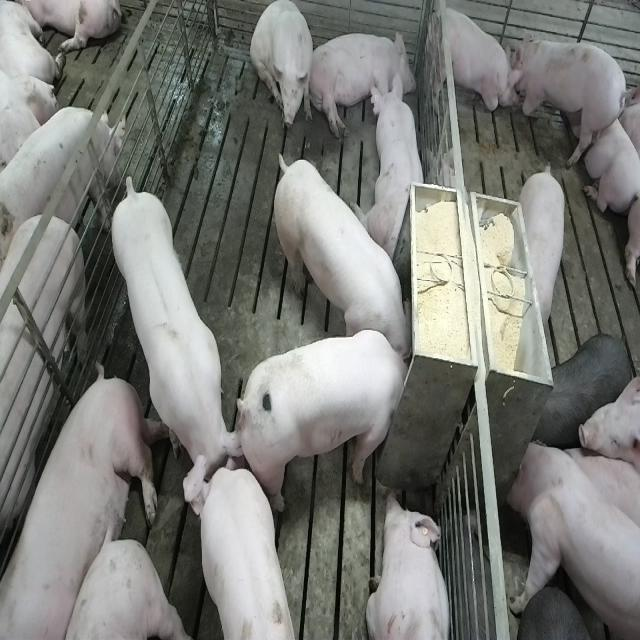Feeding: (243, 329, 420, 514), (270, 144, 410, 359)
Lateral_lying: (307, 27, 417, 139)
Sitting: (421, 0, 513, 124), (250, 2, 315, 137)
Standing: (109, 174, 246, 516), (0, 206, 89, 595), (506, 439, 638, 640), (190, 464, 302, 640), (0, 100, 122, 253), (508, 27, 627, 166), (537, 332, 632, 447), (519, 160, 571, 323)
Sternal_lying: (366, 490, 454, 640), (360, 75, 430, 260), (569, 81, 639, 212)
